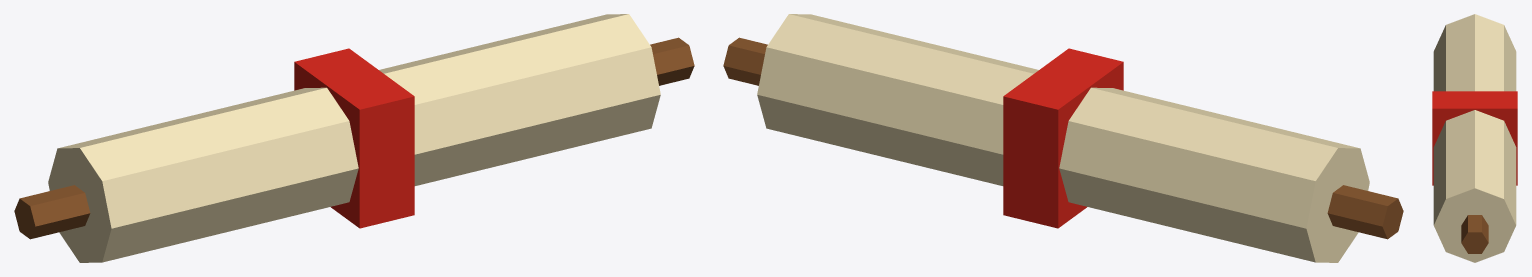
Rendered from scroll.fbx.
3 renders of one model, left to right at view 1: azimuth 30°, elevation 25°; view 2: azimuth 150°, elevation 25°; view 3: azimuth 270°, elevation 25°, orthographic. The views are drawn at different scales.
Visible parts, largest first — view 1: scroll; view 2: scroll; view 3: scroll.
Part boxes in pixels (<box>): scroll: <box>14,14,694,262</box>; scroll: <box>723,14,1403,262</box>; scroll: <box>1432,14,1517,262</box>.
Bounding box in the file's own units: 0.36 × 0.062 × 0.062.
